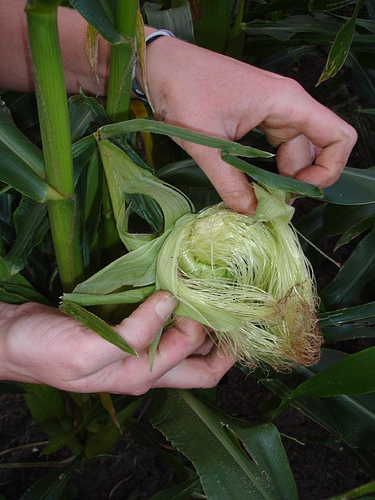corn: (55, 122, 325, 373)
